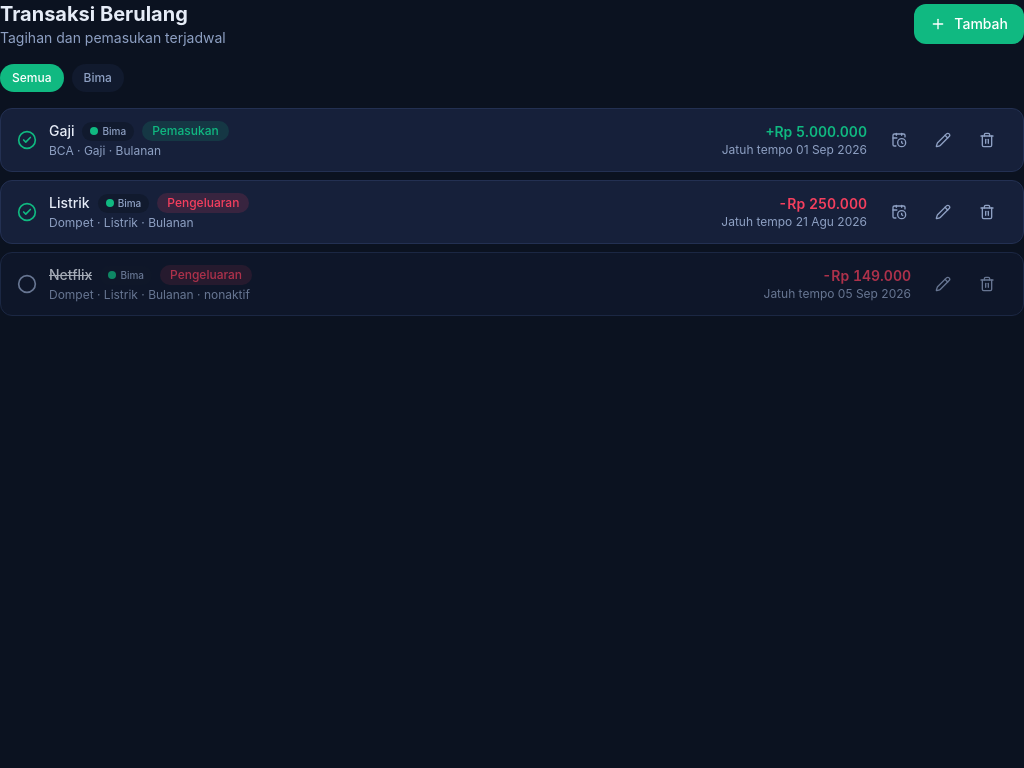
it: RecurringPage › opens a pre-filled form when editing a recurring transaction
Check: the text "Gaji" is shown, box 49,121 -> 74,141
Click the button named "Ubah" next to "Rp 5.000.000". click: [943, 140]
box: 923,126 -> 963,154
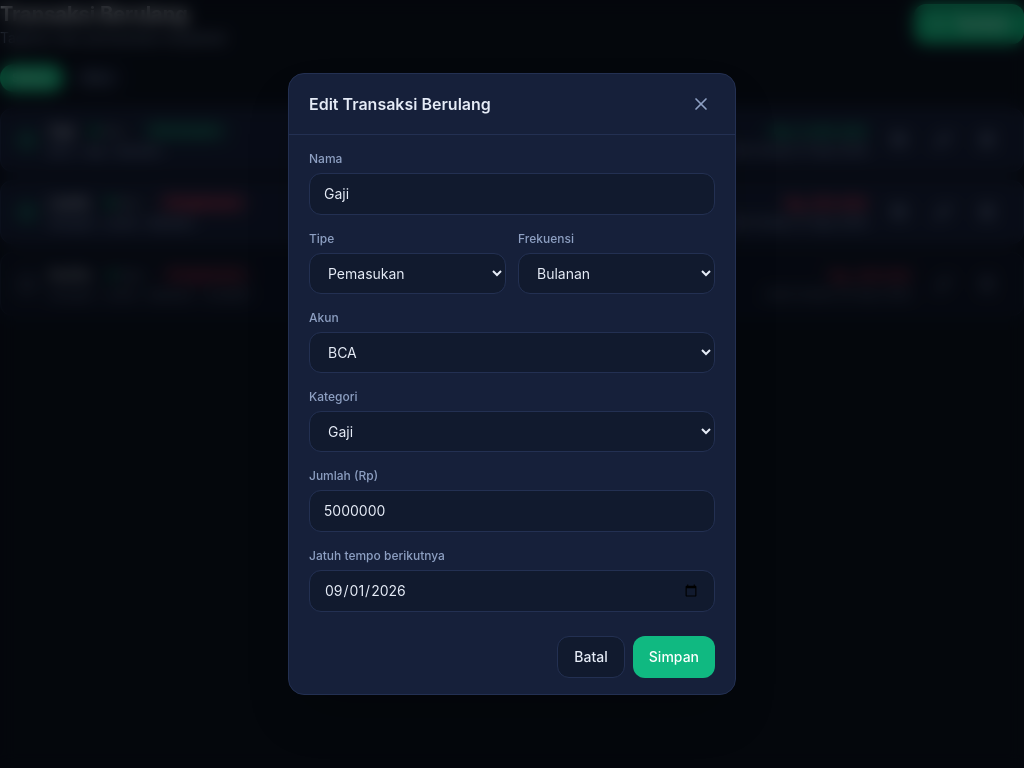
Check: the heading "Edit Transaksi Berulang" is shown, box 309,92 -> 491,116
Check: the field labelled "Nama" holds "Gaji", box 309,173 -> 715,215
Check: the field labelled "Jumlah (Rp)" holds "5000000", box 309,490 -> 715,532
